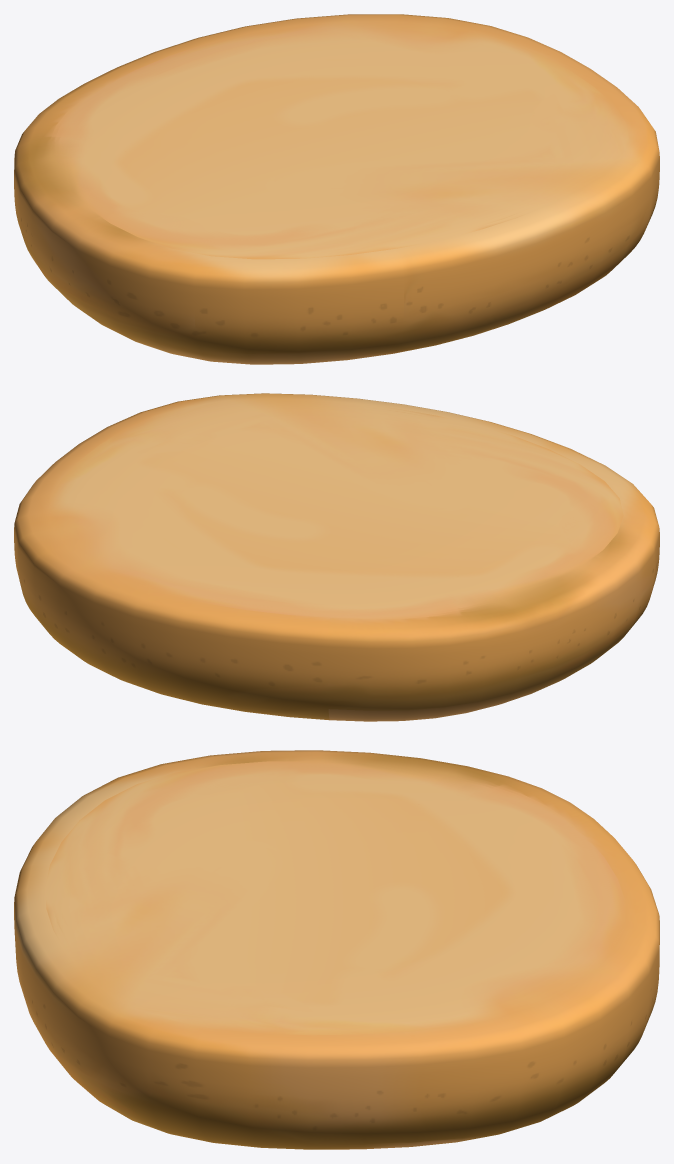
The model's file is submissive_bun.fbx.
3 renders of one model, top to bottom at view 1: azimuth 30°, elevation 25°; view 2: azimuth 150°, elevation 25°; view 3: azimuth 270°, elevation 25°, orthographic. The views are drawn at different scales.
Visible parts, largest first — view 1: bottom_bun; view 2: bottom_bun; view 3: bottom_bun.
Part boxes in pixels (x1,y1,x2,y2): bottom_bun: [14, 14, 659, 364]; bottom_bun: [14, 393, 659, 721]; bottom_bun: [14, 750, 659, 1149].
Bounding box in the file's own units: 15.78 × 3.05 × 14.02.
